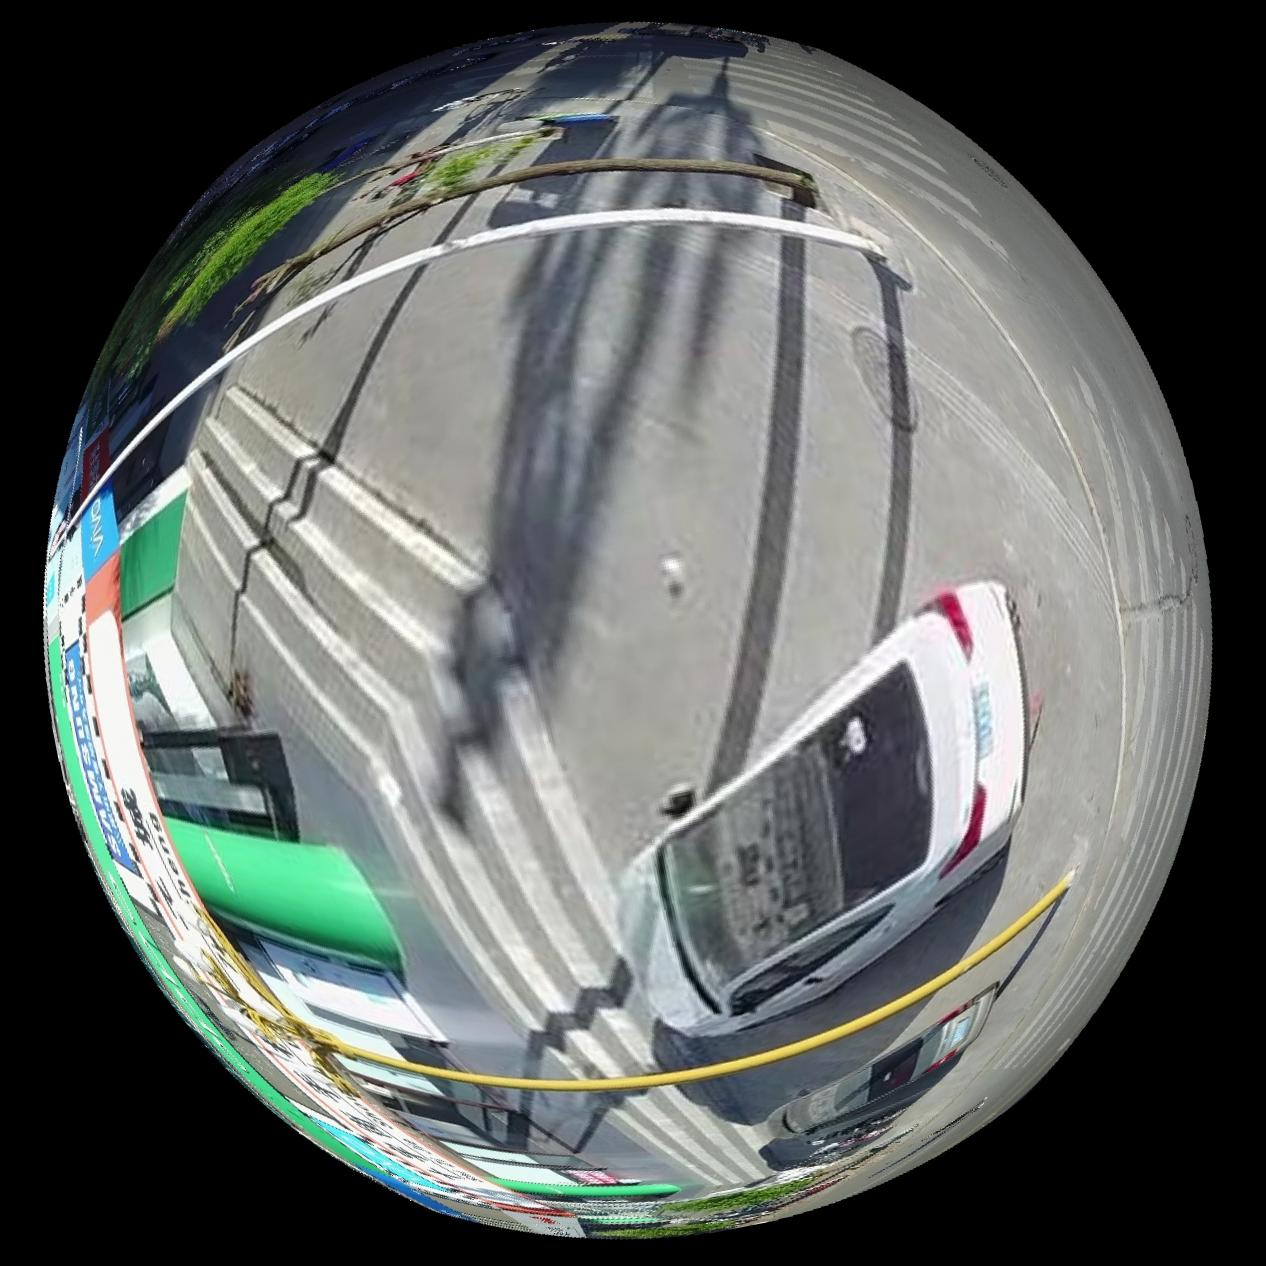building: (51, 384, 684, 1205)
cars: (623, 580, 1027, 1035), (786, 985, 998, 1134)
trees: (122, 163, 340, 374)
